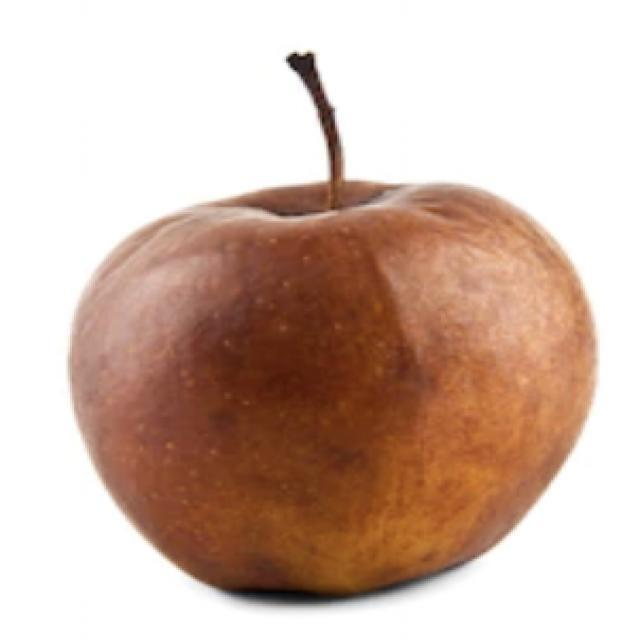Rotten: (55, 178, 588, 607)
